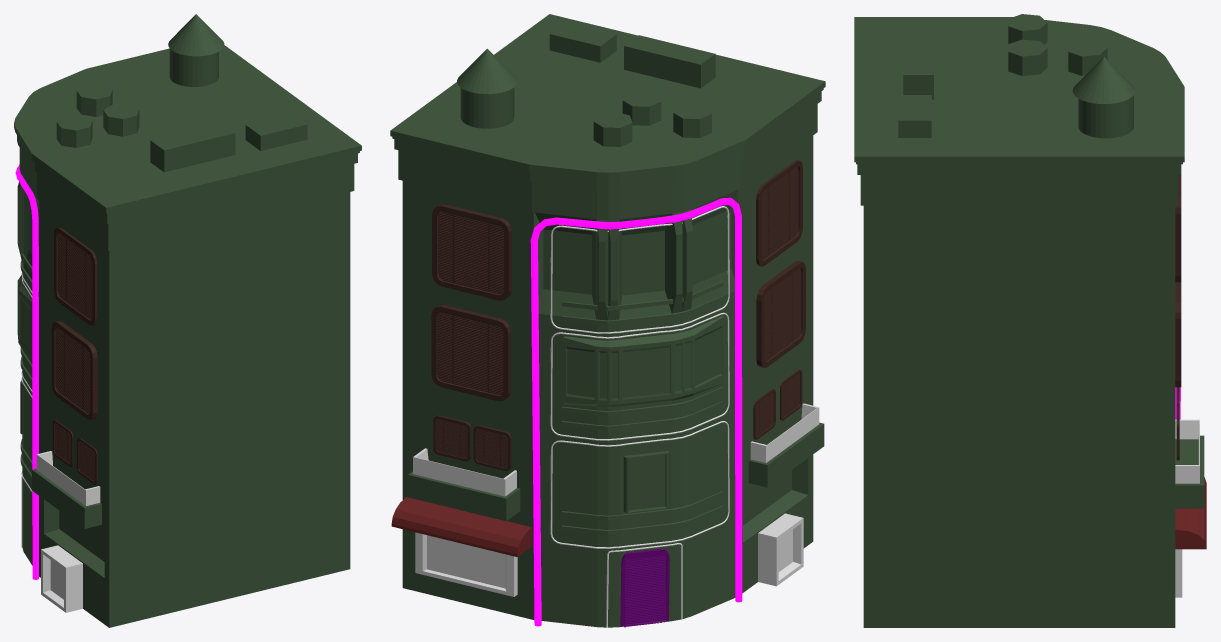
The model's file is Building1.fbx.
3 renders of one model, left to right at view 1: azimuth 30°, elevation 25°; view 2: azimuth 150°, elevation 25°; view 3: azimuth 270°, elevation 25°, orthographic. The views are drawn at different scales.
Parts seen in each view (by area): view 1: Building, Window4, Window3, Neon1, Fridge, Balcon2, Baranda2, SmallWindow4, SmallWindow3; view 2: Building, Neon1, Window2, Window1, Parasol, Window5, Window4, Neon2, Window3, Door, Balcon, Fridge (+7 smaller); view 3: Building, Balcon, Parasol, BarandaV, Window1, Window2.
Boxes of the visible parts, left/top/right/bottom form: Building: left=14, top=14, right=361, bottom=627; Window4: left=51, top=321, right=97, bottom=419; Window3: left=54, top=227, right=97, bottom=325; Neon1: left=15, top=164, right=38, bottom=579; Fridge: left=41, top=545, right=82, bottom=612; Balcon2: left=32, top=468, right=101, bottom=528; Baranda2: left=36, top=451, right=100, bottom=505; SmallWindow4: left=52, top=420, right=73, bottom=466; SmallWindow3: left=77, top=438, right=97, bottom=484; Building: left=390, top=14, right=825, bottom=627; Neon1: left=530, top=197, right=742, bottom=626; Window2: left=432, top=204, right=511, bottom=300; Window1: left=431, top=304, right=510, bottom=401; Parasol: left=391, top=497, right=532, bottom=556; Window5: left=415, top=532, right=517, bottom=596; Window4: left=756, top=261, right=805, bottom=367; Neon2: left=550, top=206, right=729, bottom=548; Window3: left=756, top=160, right=802, bottom=266; Door: left=620, top=548, right=669, bottom=627; Balcon: left=408, top=471, right=520, bottom=521; Fridge: left=758, top=513, right=803, bottom=586; Building: left=854, top=14, right=1184, bottom=627; Balcon: left=1175, top=435, right=1204, bottom=508; Parasol: left=1175, top=477, right=1206, bottom=549; BarandaV: left=1175, top=419, right=1199, bottom=483; Window1: left=1175, top=282, right=1181, bottom=387; Window2: left=1175, top=175, right=1181, bottom=282.
Bounding box in the file's own units: 1102 × 1944 × 1131.
